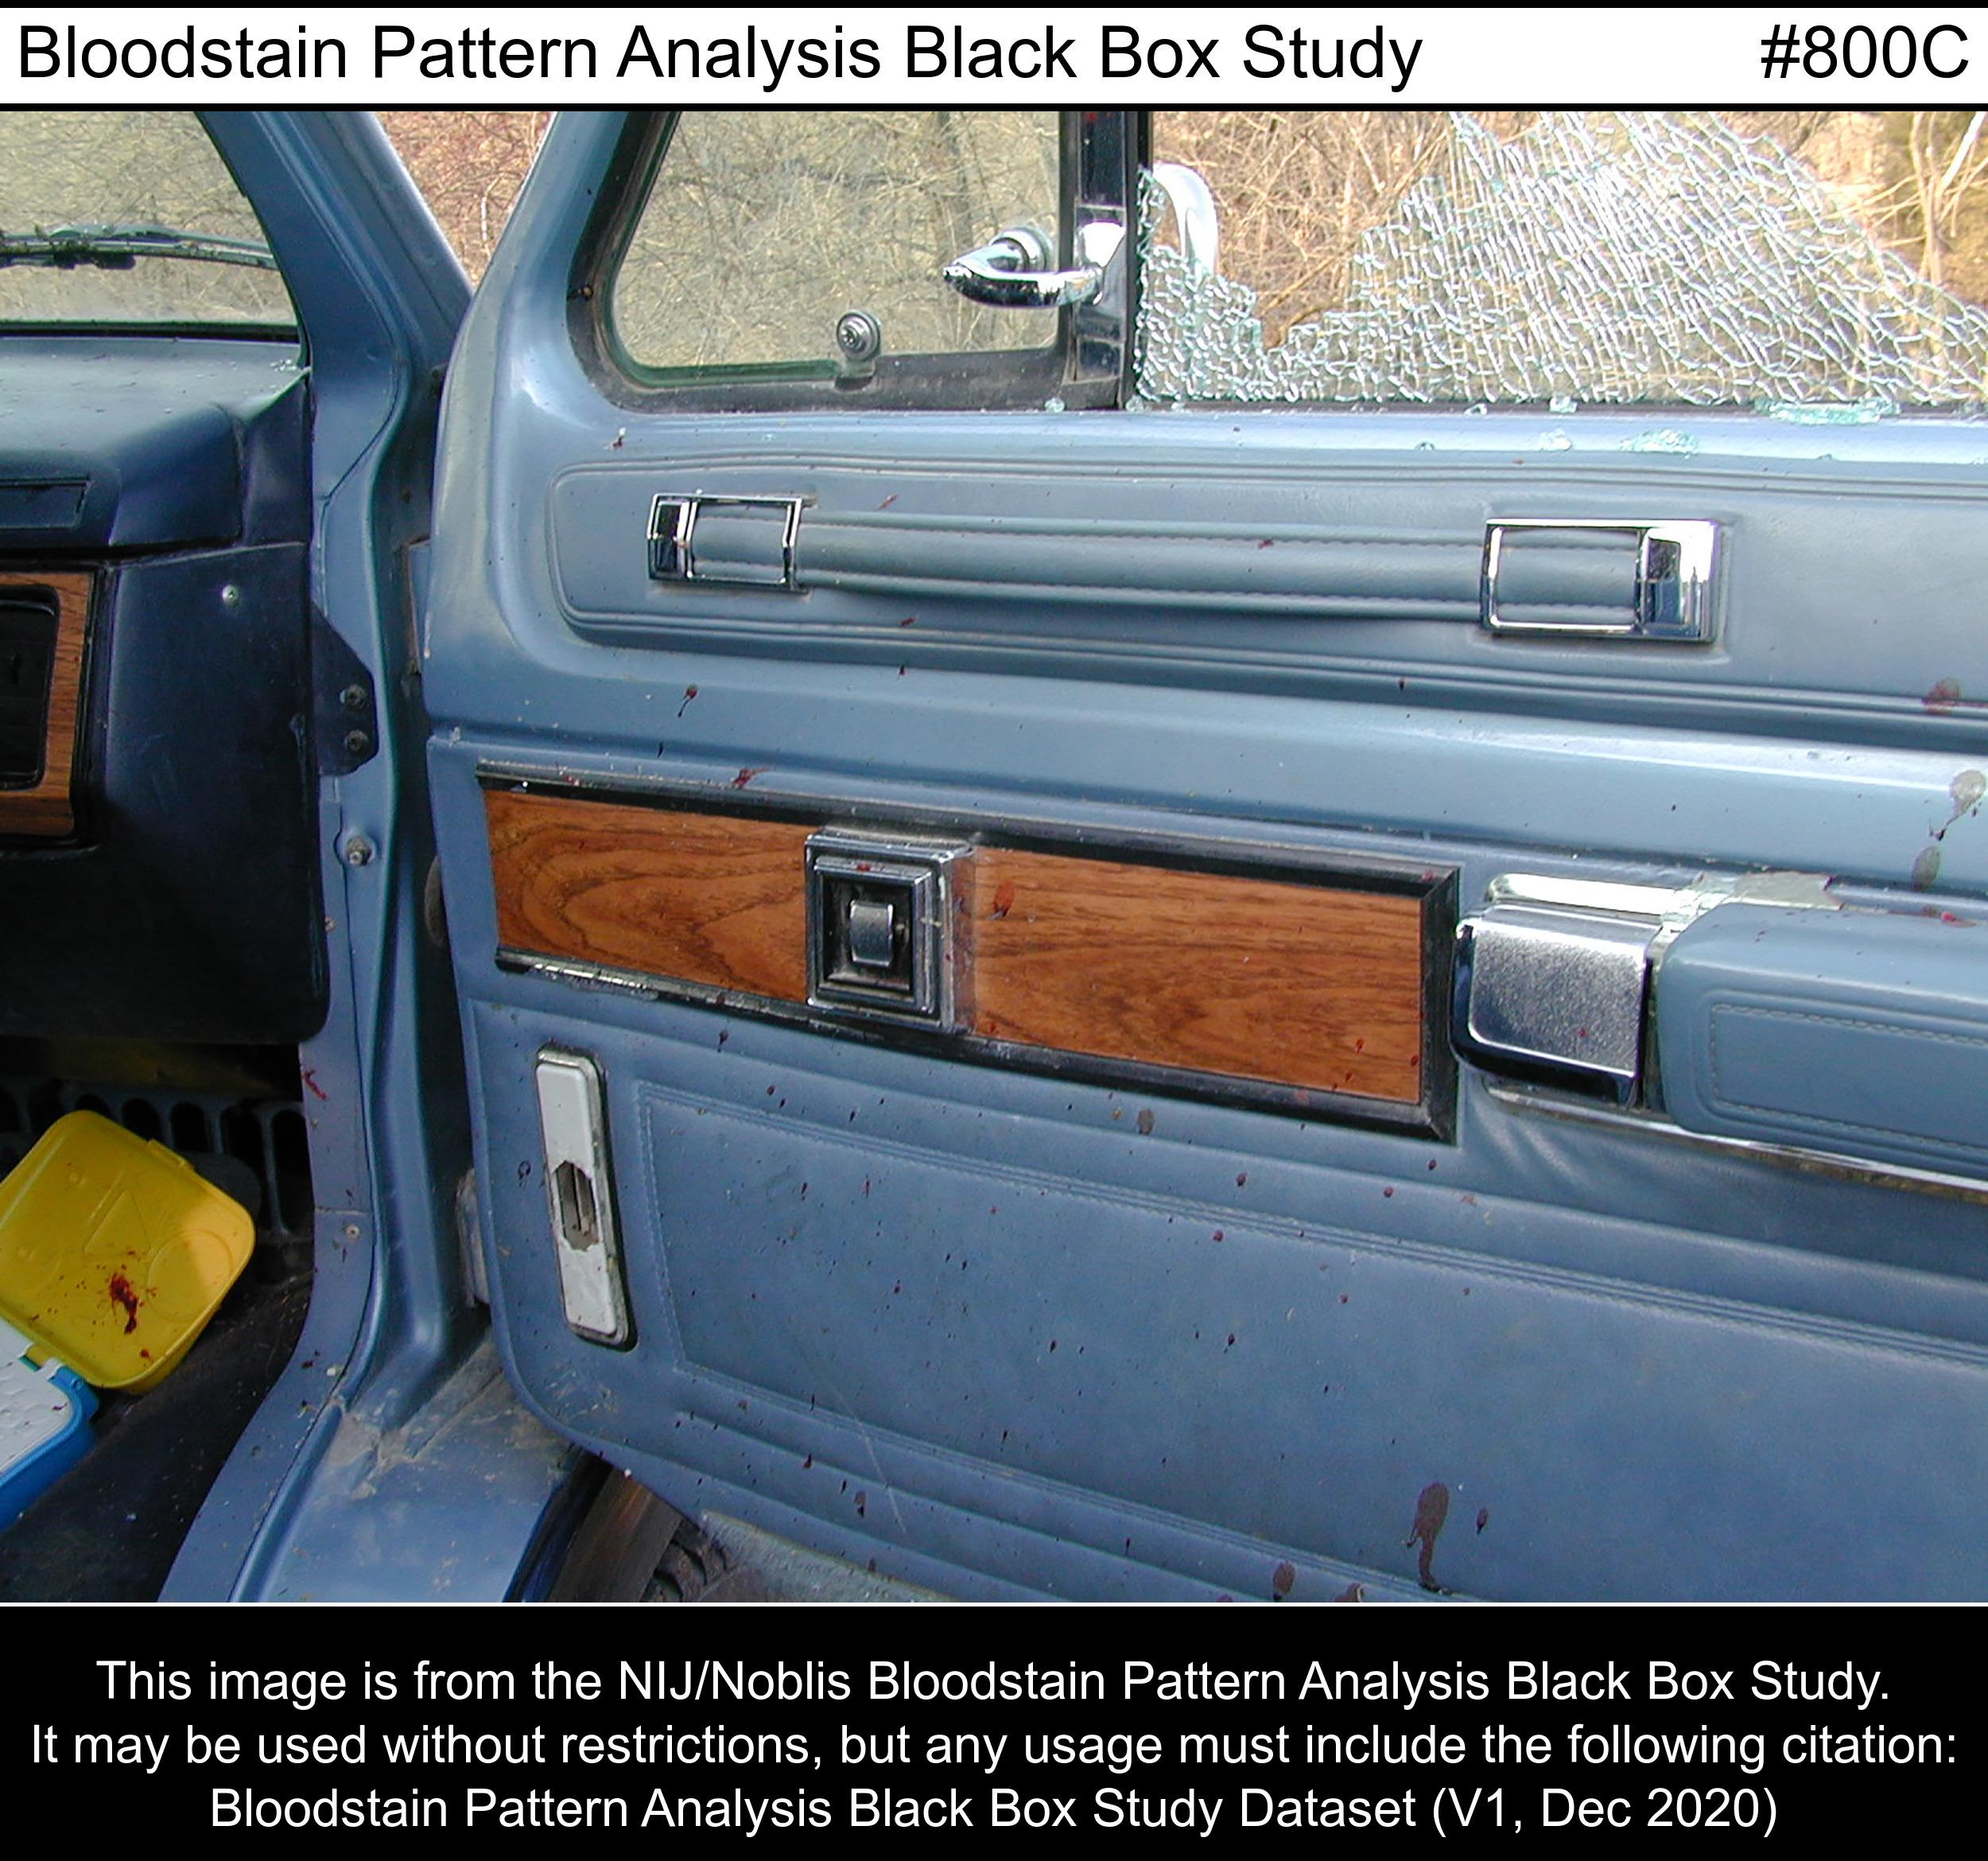Impact: (657, 1006, 1679, 1590)
